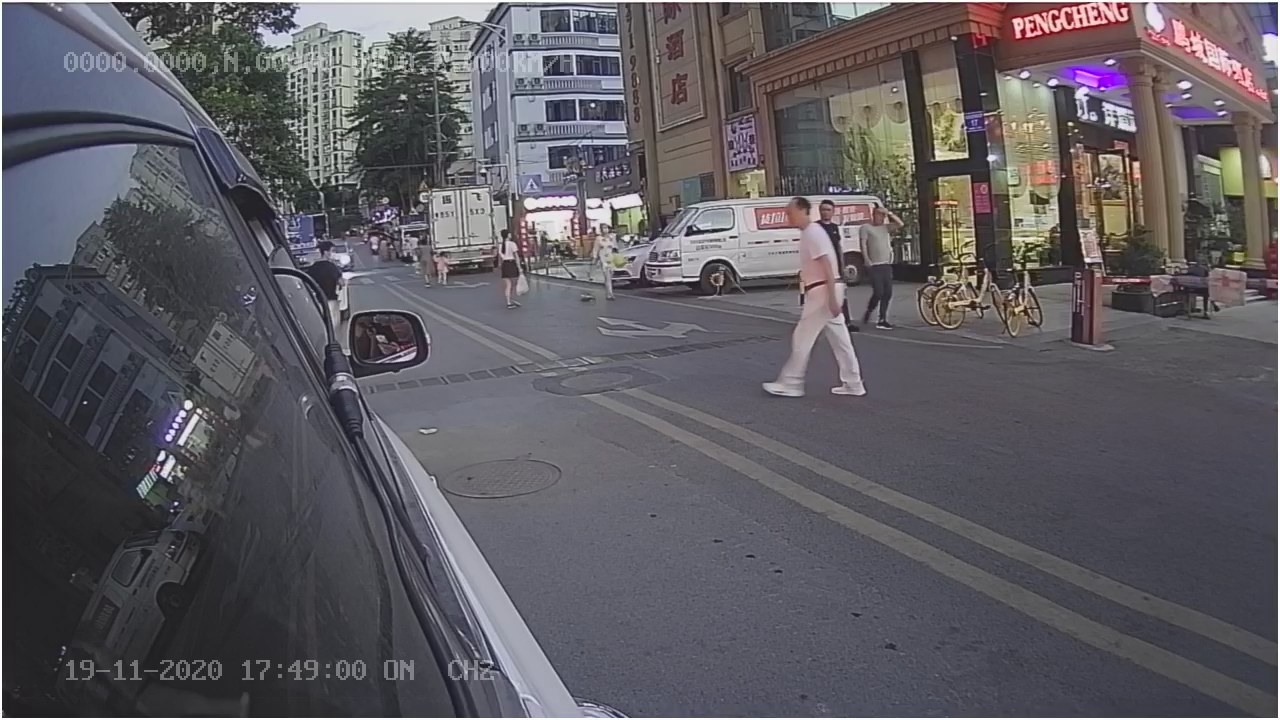person: (756, 192, 873, 408)
